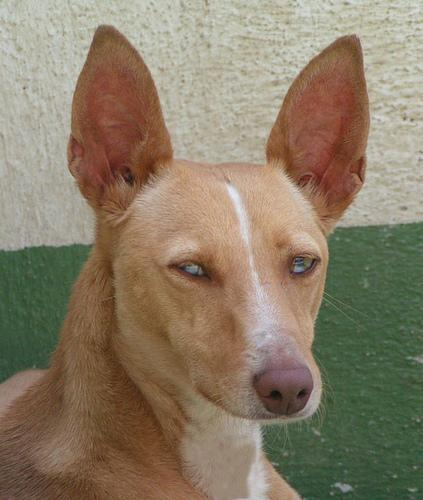Ibizan_hound: (1, 26, 372, 498)
